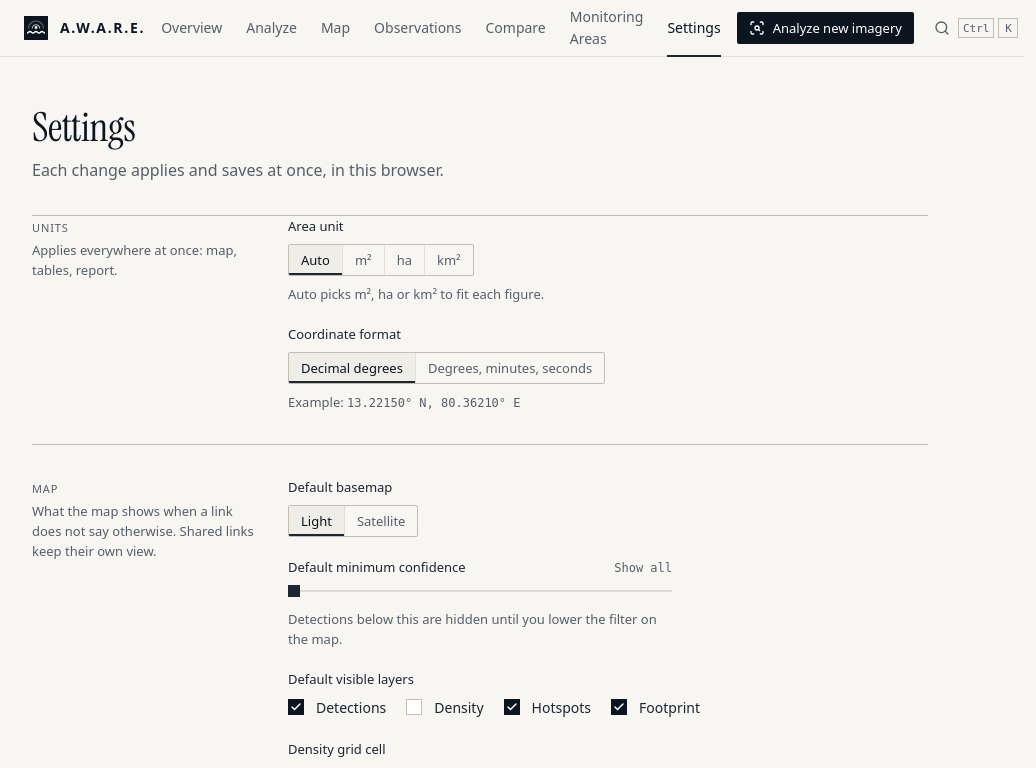
Test case: Settings page › saves a unit at once and says so
The width and height of the screenshot is (1036, 768).
Click the radio button labelled "ha".
click(404, 260)  # box [384,245,424,275]
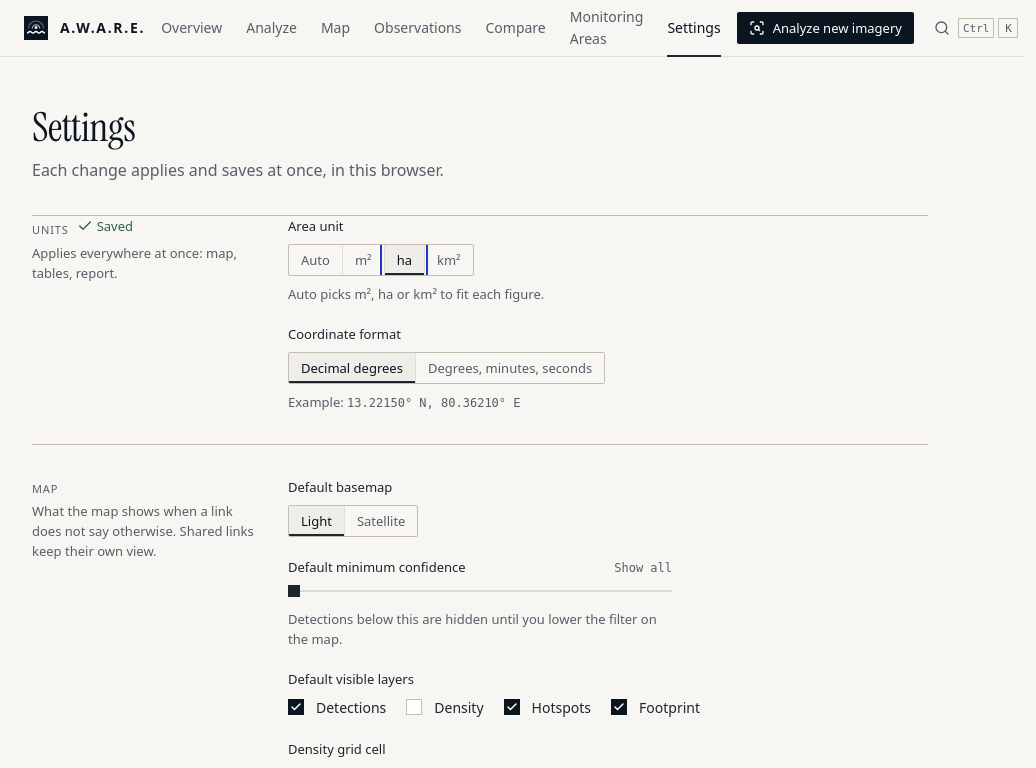
Now the text "Saved" is shown, box [77,216,133,236]
Click the radio button labelled "Degrees, minutes, seconds".
click(510, 368)  # box [415,353,604,383]
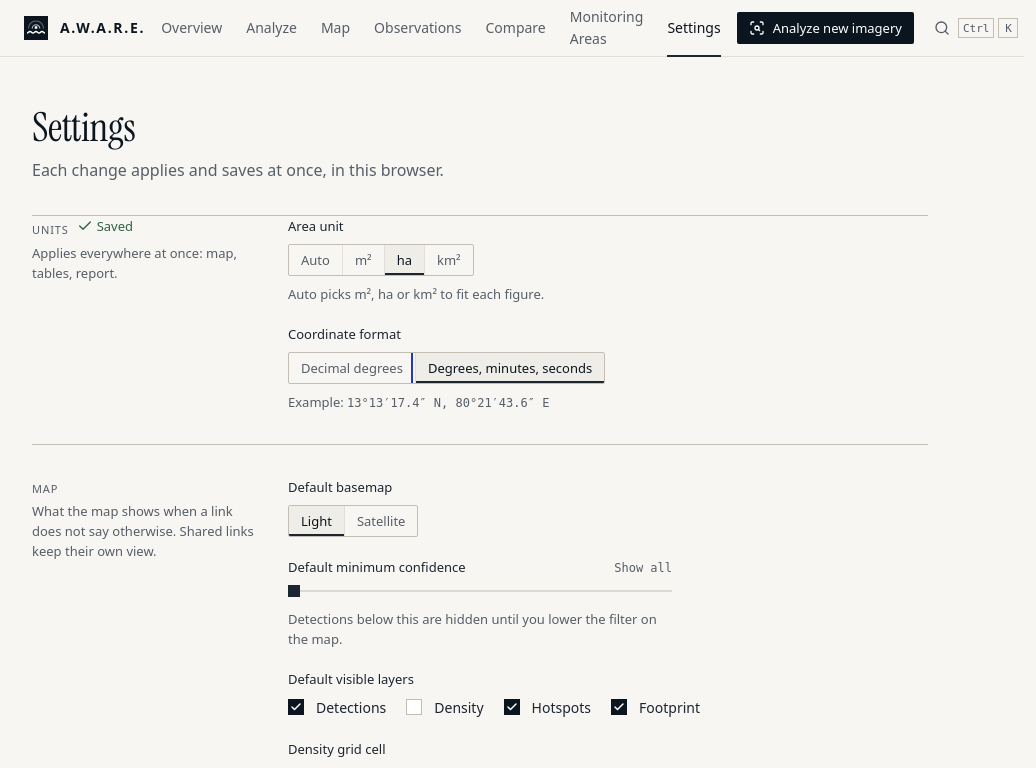
Now the text "13°13′17.4″ N, 80°21′43.6″ E" is shown, box [347,396,549,410]
